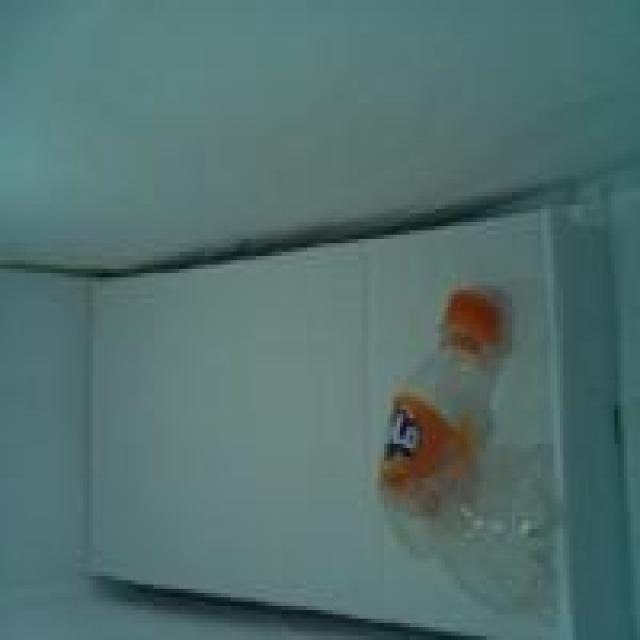bottle: (342, 256, 589, 640)
